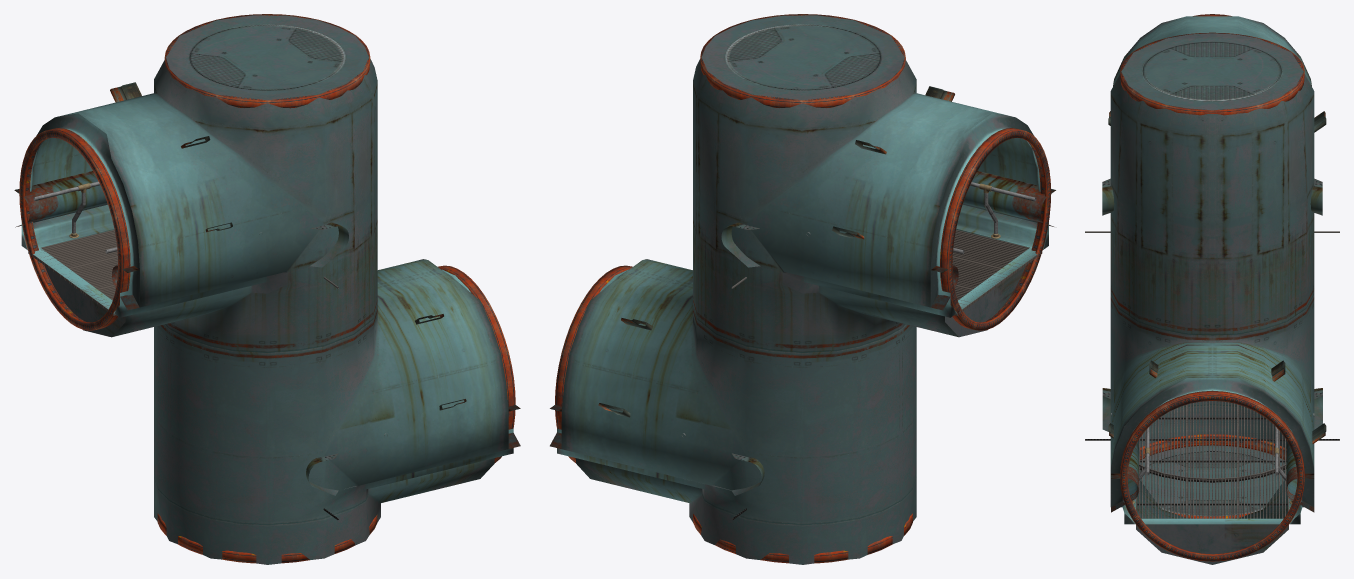
The model's file is tau_tunnel_ladder_short.dae.
3 views of the same model, side by side, from view 1: azimuth 30°, elevation 25°; view 2: azimuth 150°, elevation 25°; view 3: azimuth 270°, elevation 25° (orthographic). The views are drawn at different scales.
Visible parts, largest first — view 1: polySurface392, pPipe51, polySurface389, polySurface129, pPipe52, pPipe50, pPipe53, polySurface147; view 2: polySurface392, pPipe51, polySurface389, polySurface129, pPipe52, pPipe50, pPipe53, polySurface147; view 3: polySurface392, pPipe50, polySurface128, polySurface93, polySurface388, pPipe52, polySurface97, polySurface96, pPipe53, polySurface389, polySurface226, pPipe64.
Boxes of the visible parts, x1,y1,x2,y2 form: polySurface392: [21, 15, 513, 564]; pPipe51: [19, 128, 130, 330]; polySurface389: [14, 171, 348, 310]; polySurface129: [28, 230, 117, 315]; pPipe52: [164, 14, 370, 108]; pPipe50: [438, 265, 515, 462]; pPipe53: [157, 513, 377, 563]; polySurface147: [33, 181, 261, 253]; polySurface392: [557, 15, 1048, 564]; pPipe51: [940, 128, 1051, 330]; polySurface389: [721, 171, 1055, 310]; polySurface129: [952, 230, 1042, 315]; pPipe52: [700, 14, 905, 107]; pPipe50: [555, 265, 632, 462]; pPipe53: [693, 513, 912, 563]; polySurface147: [806, 182, 1036, 254]; polySurface392: [1110, 16, 1314, 564]; pPipe50: [1120, 390, 1304, 561]; polySurface128: [1136, 466, 1288, 518]; polySurface93: [1187, 401, 1237, 478]; polySurface388: [1102, 388, 1322, 512]; pPipe52: [1120, 32, 1304, 115]; polySurface97: [1238, 404, 1339, 476]; polySurface96: [1085, 404, 1186, 476]; pPipe53: [1140, 434, 1286, 518]; polySurface389: [1102, 178, 1322, 215]; polySurface226: [1271, 360, 1326, 443]; pPipe64: [1139, 464, 1286, 479].
Size of the model in its own units: 8 by 8.93 by 5.
